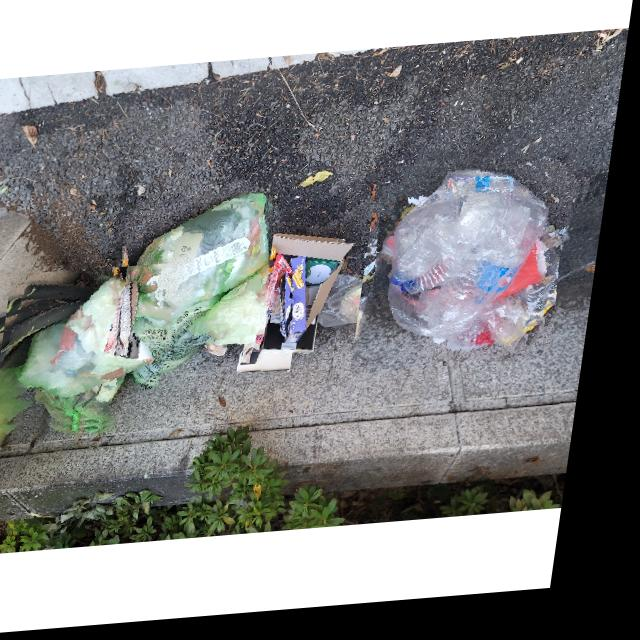general_trashbag: (7, 272, 197, 428), (127, 192, 276, 359)
other_trashbag: (364, 169, 593, 370)
